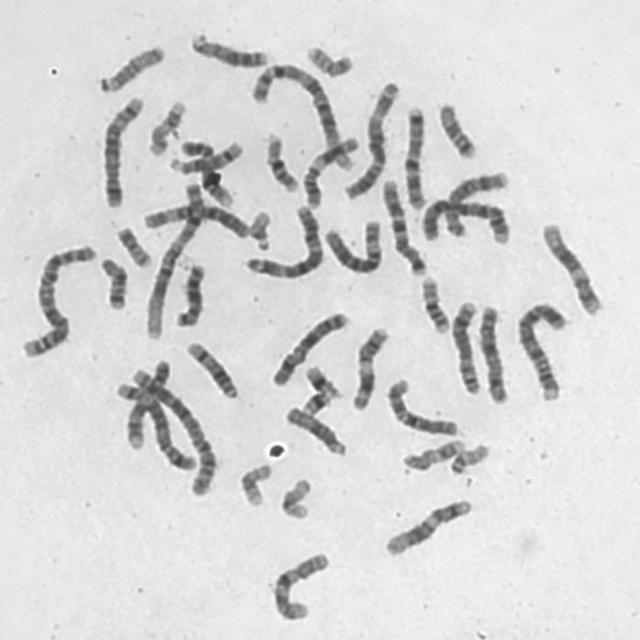A1: (246, 57, 357, 173), (140, 177, 207, 340)
A2: (116, 368, 220, 500), (15, 238, 97, 359)
A3: (338, 76, 402, 201), (240, 199, 326, 281)
B4: (511, 296, 571, 403), (415, 191, 513, 246)
B5: (124, 361, 200, 474), (95, 90, 146, 210)
C10: (380, 373, 462, 438), (266, 546, 332, 623)
C11: (298, 130, 360, 210), (346, 322, 391, 411)
C12: (536, 216, 605, 317), (378, 493, 474, 558)
C6: (136, 196, 253, 240), (319, 213, 385, 276)
C7: (376, 174, 429, 278), (398, 100, 429, 212)
C8: (438, 165, 512, 238), (445, 295, 484, 397)
C9: (120, 354, 173, 451), (174, 134, 235, 208)
D13: (186, 27, 270, 69), (170, 257, 208, 328)
D14: (180, 335, 241, 401), (165, 135, 245, 176)
D15: (94, 39, 168, 94), (280, 401, 349, 458)
E16: (258, 127, 302, 194), (415, 271, 453, 335)
E17: (143, 94, 188, 157), (396, 433, 466, 472)
E18: (433, 97, 479, 160), (94, 252, 129, 311)
F19: (233, 457, 274, 508), (274, 472, 314, 522)
F20: (110, 220, 154, 270), (300, 39, 356, 78)
G21: (300, 360, 343, 399), (296, 384, 335, 418)
G22: (444, 438, 491, 477), (243, 204, 274, 253)
X: (265, 306, 351, 389), (474, 300, 510, 406)
